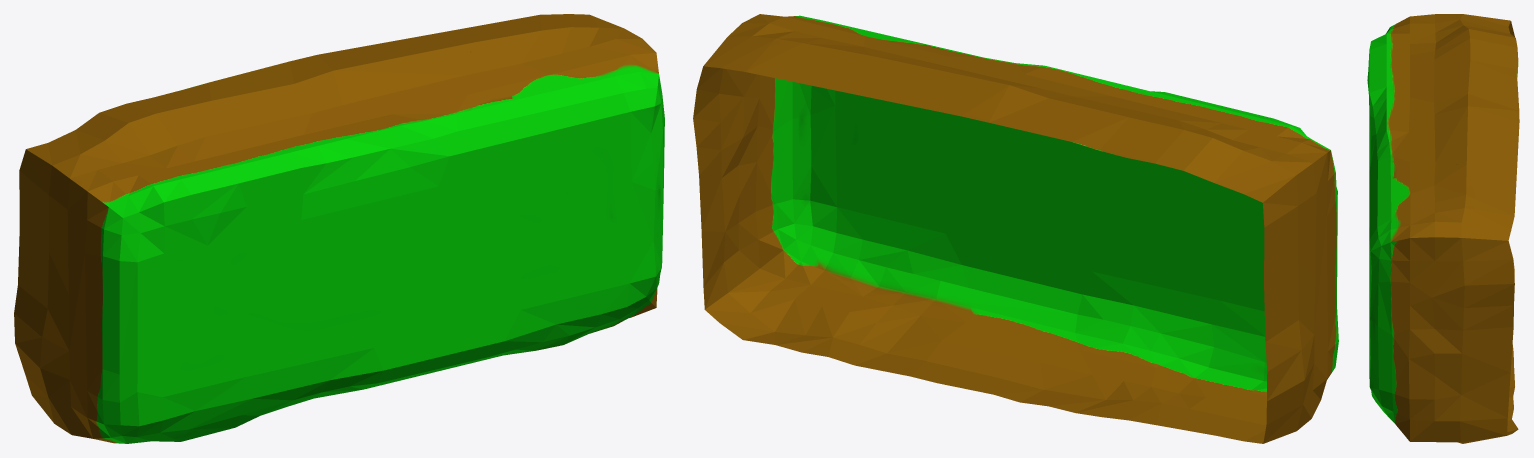
Rendered from Cliff.fbx.
3 views of the same model, side by side, from view 1: azimuth 30°, elevation 25°; view 2: azimuth 150°, elevation 25°; view 3: azimuth 270°, elevation 25° (orthographic). The views are drawn at different scales.
Visible parts, largest first — view 1: Cube.002; view 2: Cube.002; view 3: Cube.002.
Part boxes in pixels (bbox=[...]): Cube.002: bbox=[14, 14, 664, 443]; Cube.002: bbox=[693, 14, 1338, 443]; Cube.002: bbox=[1367, 14, 1519, 443].
Bounding box in the file's own units: 42.84 × 21.29 × 12.03.
